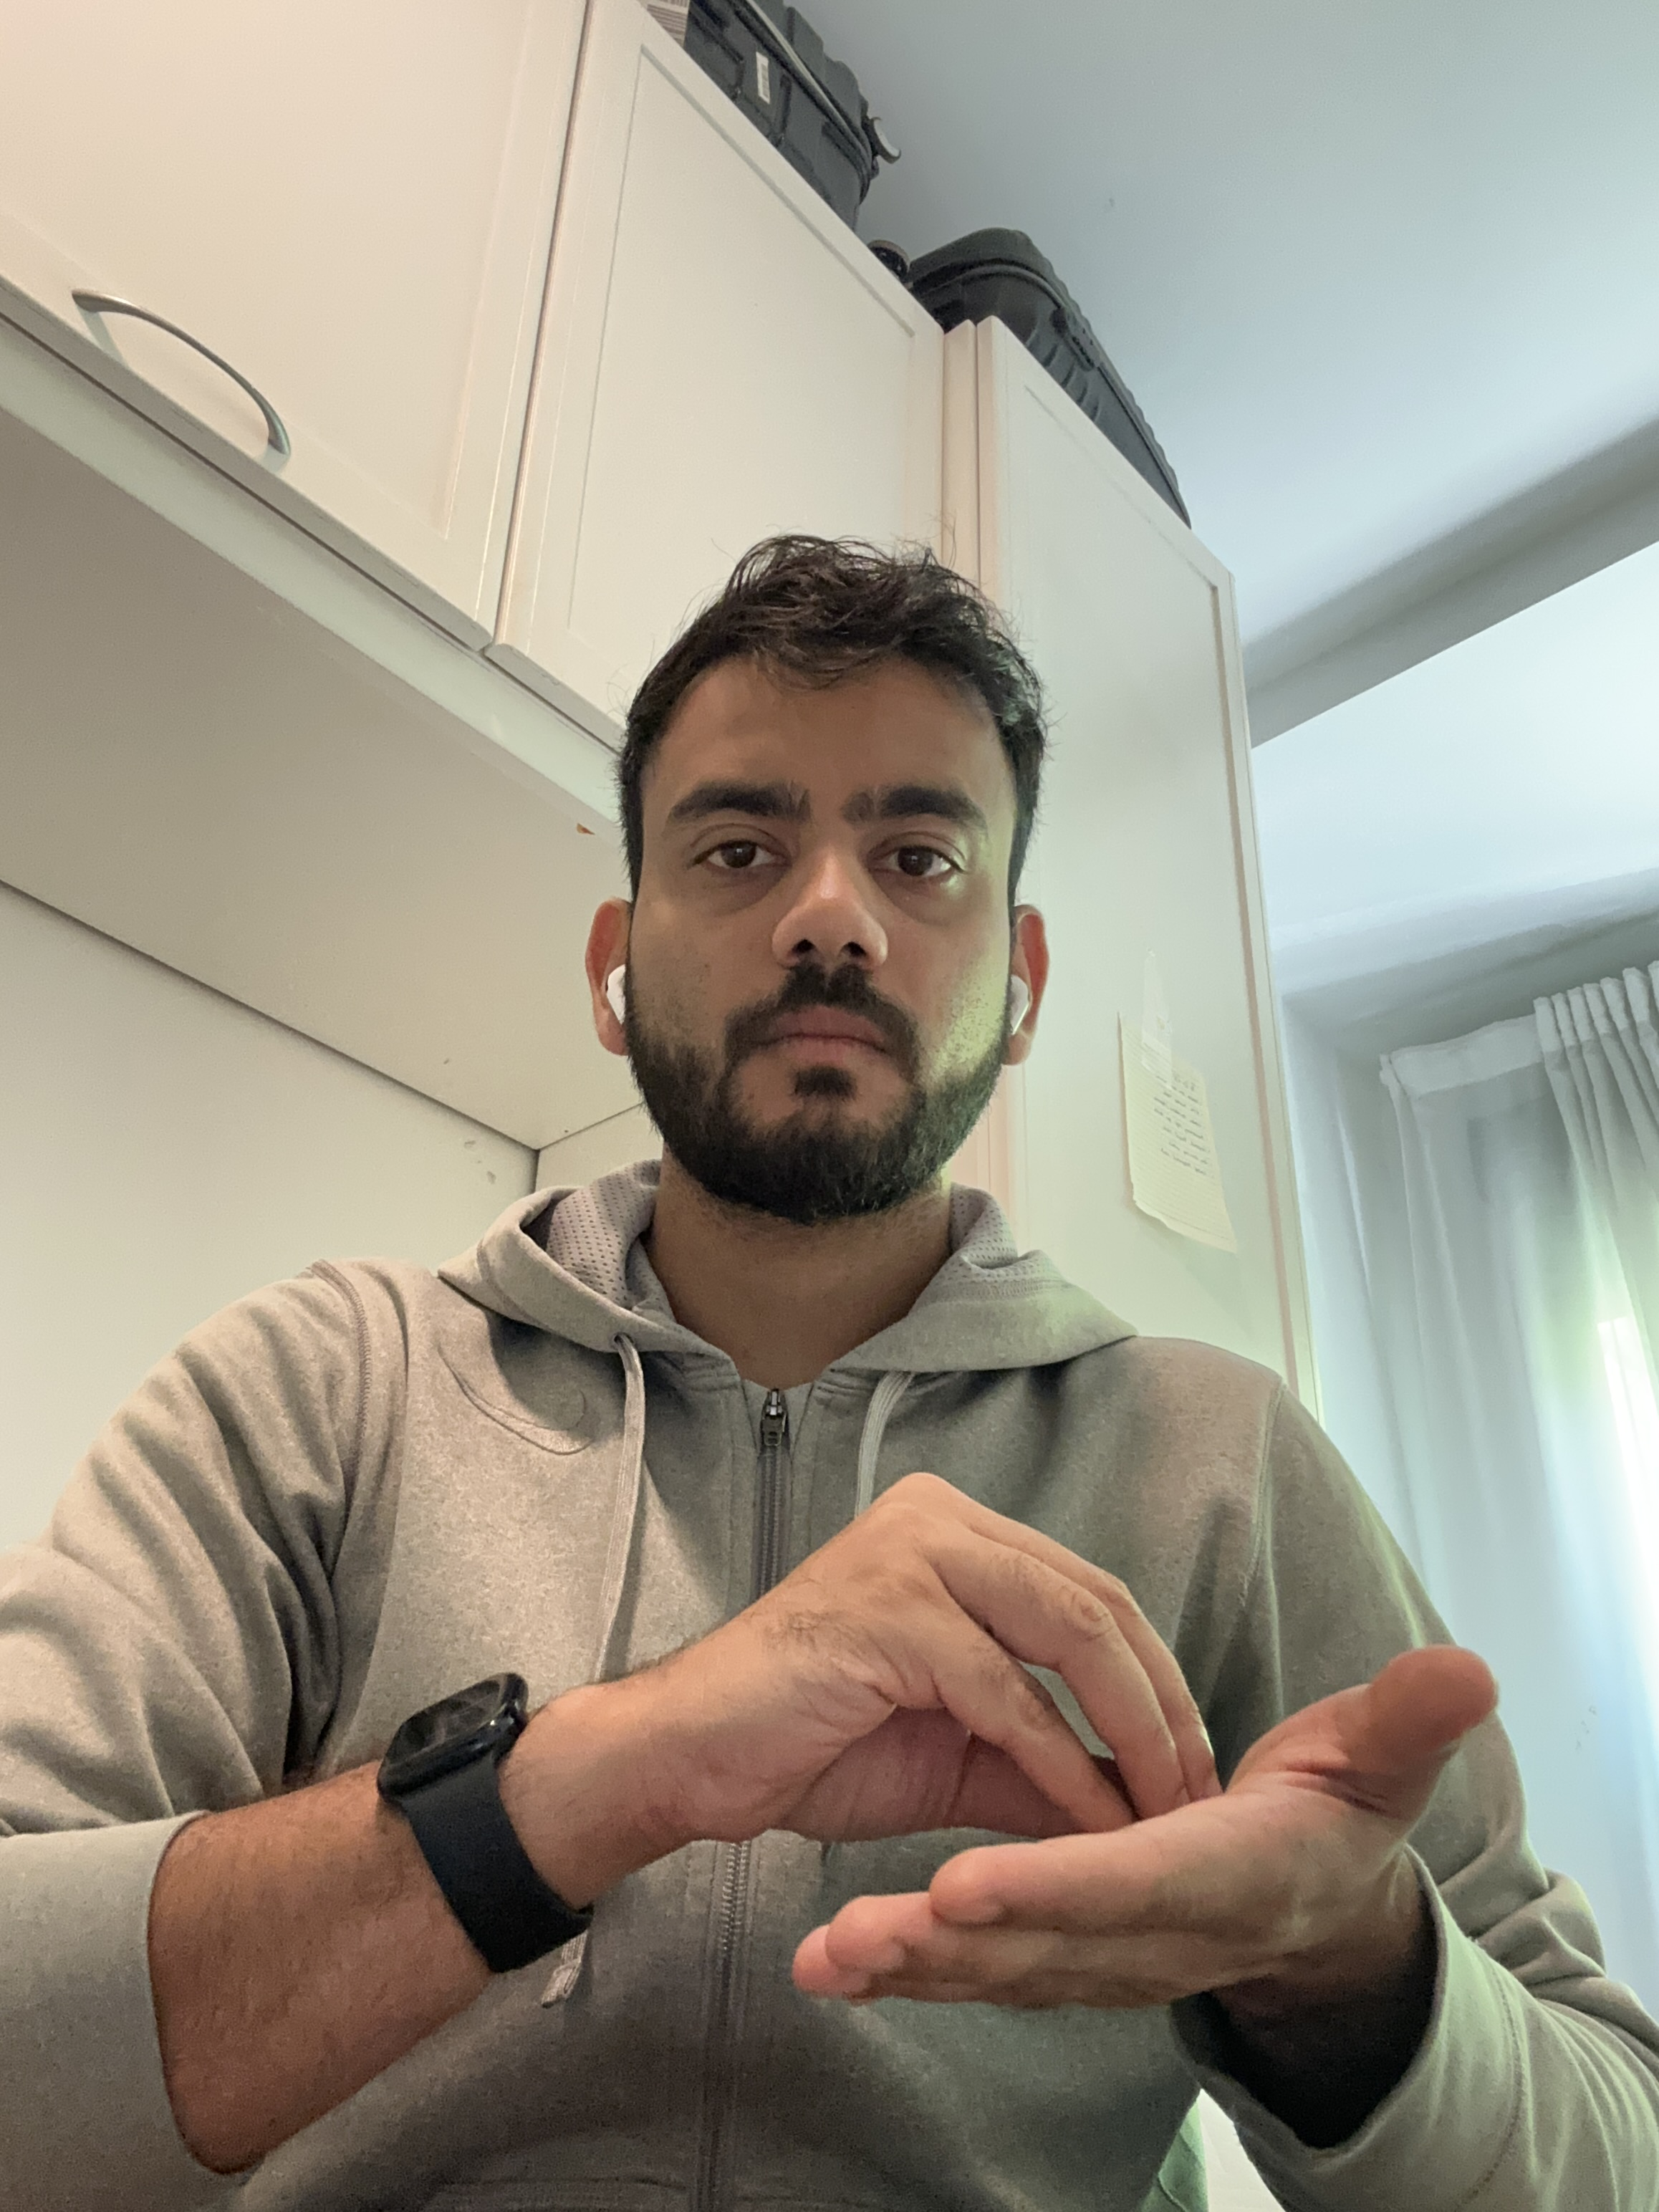learning: (7, 528, 1649, 2202)
